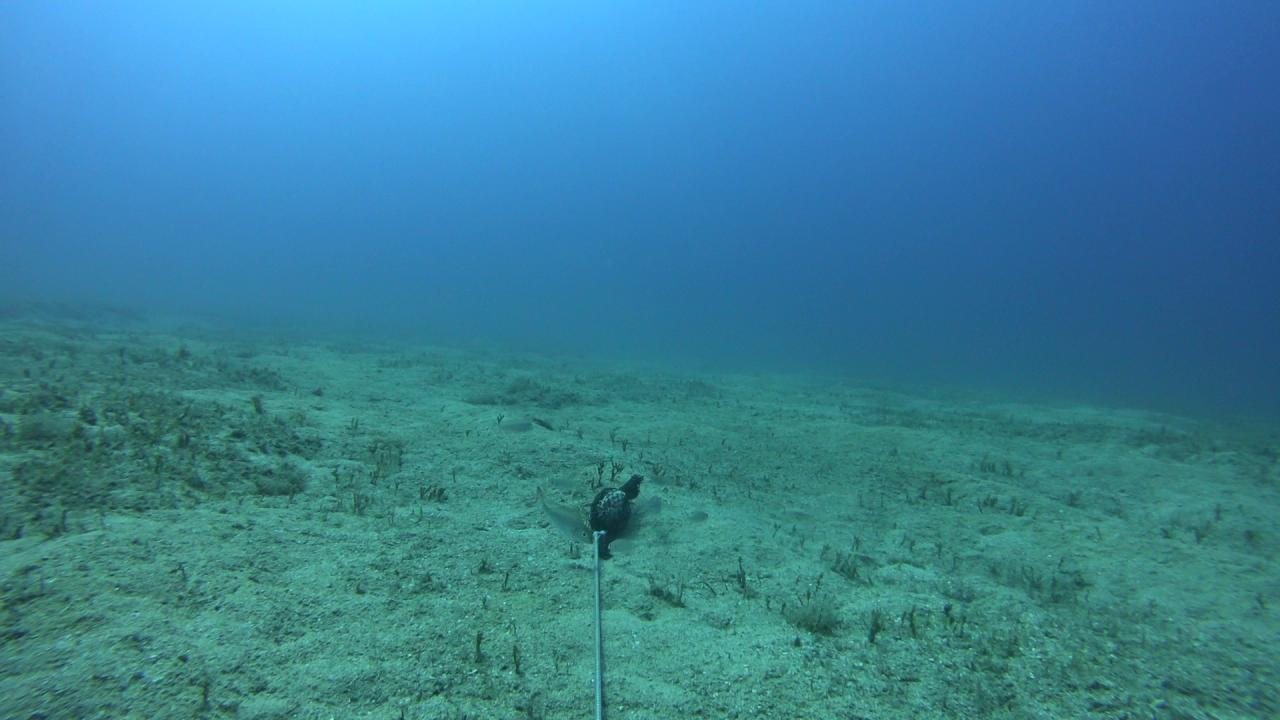pagellus: (525, 486, 591, 546), (603, 536, 650, 554), (635, 496, 662, 518), (681, 514, 714, 524)
raor: (495, 420, 535, 437)
